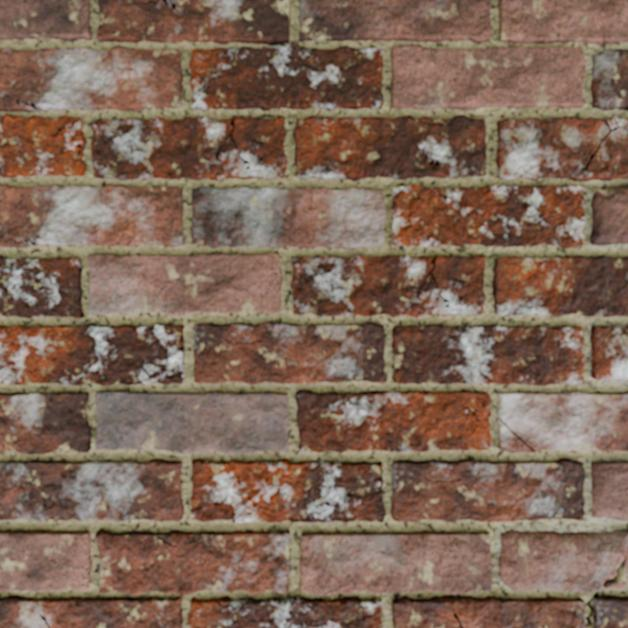brick: (97, 0, 382, 110), (0, 530, 290, 627), (294, 115, 486, 180), (391, 45, 584, 109), (90, 117, 286, 179), (391, 459, 583, 522), (300, 531, 491, 594), (391, 185, 585, 247), (296, 390, 490, 452), (192, 459, 385, 521), (96, 391, 288, 453), (291, 255, 485, 316), (392, 324, 585, 385), (0, 46, 182, 110), (194, 322, 384, 383), (88, 254, 281, 314), (192, 187, 384, 247), (0, 459, 183, 520), (0, 324, 184, 384), (0, 185, 183, 245), (496, 117, 627, 180), (493, 256, 627, 316), (299, 0, 491, 41), (498, 392, 627, 450), (392, 595, 584, 627), (188, 596, 381, 627), (499, 0, 627, 44), (0, 530, 90, 591), (0, 393, 90, 453), (0, 114, 85, 176), (0, 257, 83, 317), (0, 0, 90, 39), (589, 325, 627, 382), (594, 596, 627, 627), (499, 422, 530, 451), (0, 97, 34, 111), (0, 239, 24, 246), (607, 118, 615, 127), (617, 119, 627, 126)
broken_brick: (498, 528, 627, 593), (590, 48, 627, 111), (589, 184, 627, 245), (590, 460, 627, 520)
crack: (585, 556, 626, 627), (581, 116, 627, 171), (213, 116, 250, 170), (414, 255, 450, 308), (455, 397, 491, 433), (498, 417, 535, 452), (535, 326, 563, 364), (118, 0, 179, 11), (0, 94, 40, 109), (50, 117, 80, 137), (0, 233, 42, 245), (407, 115, 451, 126), (452, 612, 464, 627), (39, 613, 51, 627), (191, 224, 199, 231), (623, 105, 627, 111), (625, 521, 627, 532), (621, 257, 627, 260)
